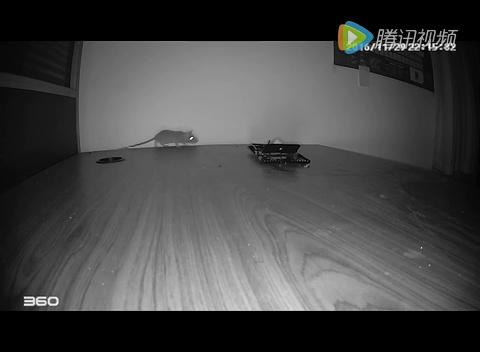rat: (149, 126, 198, 150)
